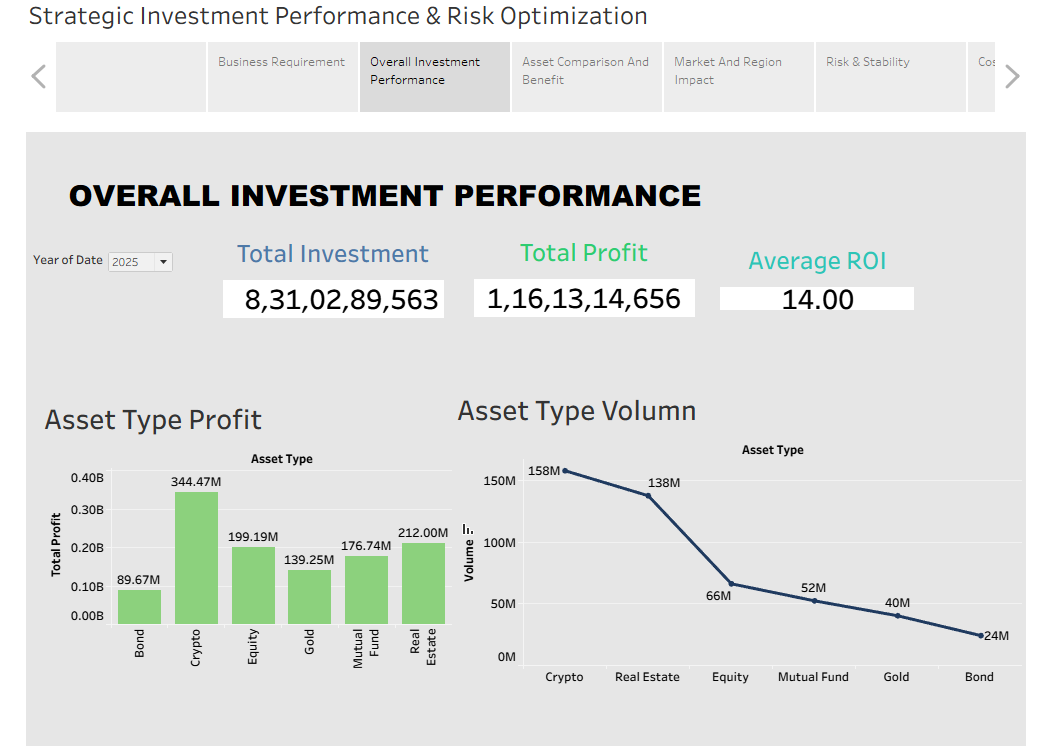

Layout of this report page (visuals, bound fields, positions):
{"tool":"tableau","page":{"name":"OVERALL INVESTMENT PERFORMANCE","canvas":[1000,1000],"units":"permille","ordinal":4},"visuals":[{"type":"text","box":[40.2,60.5,676.8,82.9]},{"type":"worksheet","title":"Total Profit","mark":"Automatic","box":[448.2,160.6,241.1,148.5]},{"type":"worksheet","title":"Total Investment","mark":"Automatic","box":[197.3,163.6,283,224.2]},{"type":"worksheet","title":"Average ROI","mark":"Automatic","box":[693.8,174.2,194.6,115.2]},{"type":"filter","title":"Total Investment","param":"[federated.1wwh79u1fpuqpj1ba0z2k0fuhllu].[yr:Date:ok]","box":[7.1,190.8,142.9,57.9]},{"type":"worksheet","title":"Asset Type Volumn","mark":"Line","rows":["Volume"],"cols":["Asset Type"],"box":[426.8,415.2,568.8,518.2]},{"type":"worksheet","title":"Asset Type Profit","mark":"Automatic","rows":["Calculation_0358462931140609"],"cols":["Asset Type"],"box":[14.3,430.3,411.6,468.2]}]}

Visuals, with their boxes on the dashboard's canvas, which has no fixed pixel size, in thousandths of its width and height (x1, y1, x2, y2). These are canvas units, not pixel positions in the 1052x756 screenshot, which may show the page scaled, cropped or inside an application window:
text: locate(40, 60, 717, 143)
"Total Profit" worksheet: locate(448, 161, 689, 309)
"Total Investment" worksheet: locate(197, 164, 480, 388)
"Average ROI" worksheet: locate(694, 174, 888, 289)
"Total Investment" filter: locate(7, 191, 150, 249)
"Asset Type Volumn" worksheet (Line marks): locate(427, 415, 996, 933)
"Asset Type Profit" worksheet: locate(14, 430, 426, 898)
